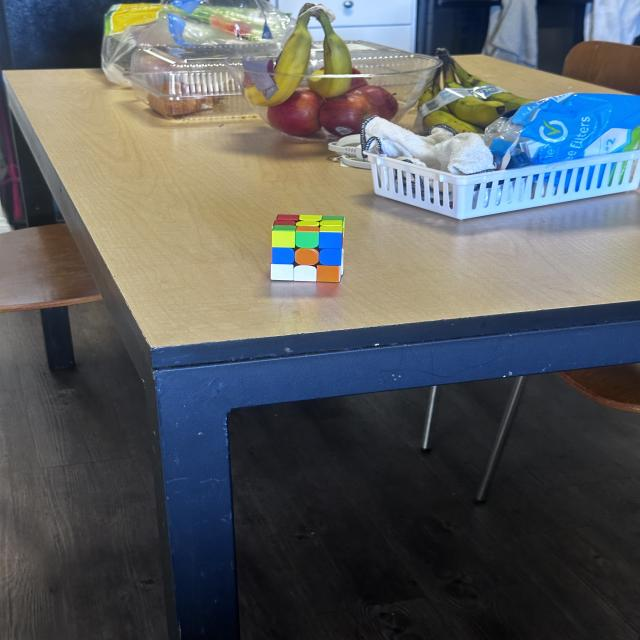sticker: (292, 264, 318, 282), (319, 231, 343, 250), (295, 248, 320, 266), (316, 264, 341, 282), (270, 263, 295, 281), (295, 231, 319, 249), (319, 248, 343, 266), (271, 247, 295, 264), (272, 230, 294, 248), (320, 224, 343, 232), (296, 225, 319, 232), (276, 214, 299, 221), (321, 216, 344, 223), (299, 214, 322, 221), (296, 220, 319, 227), (273, 225, 295, 232), (274, 219, 296, 225)
